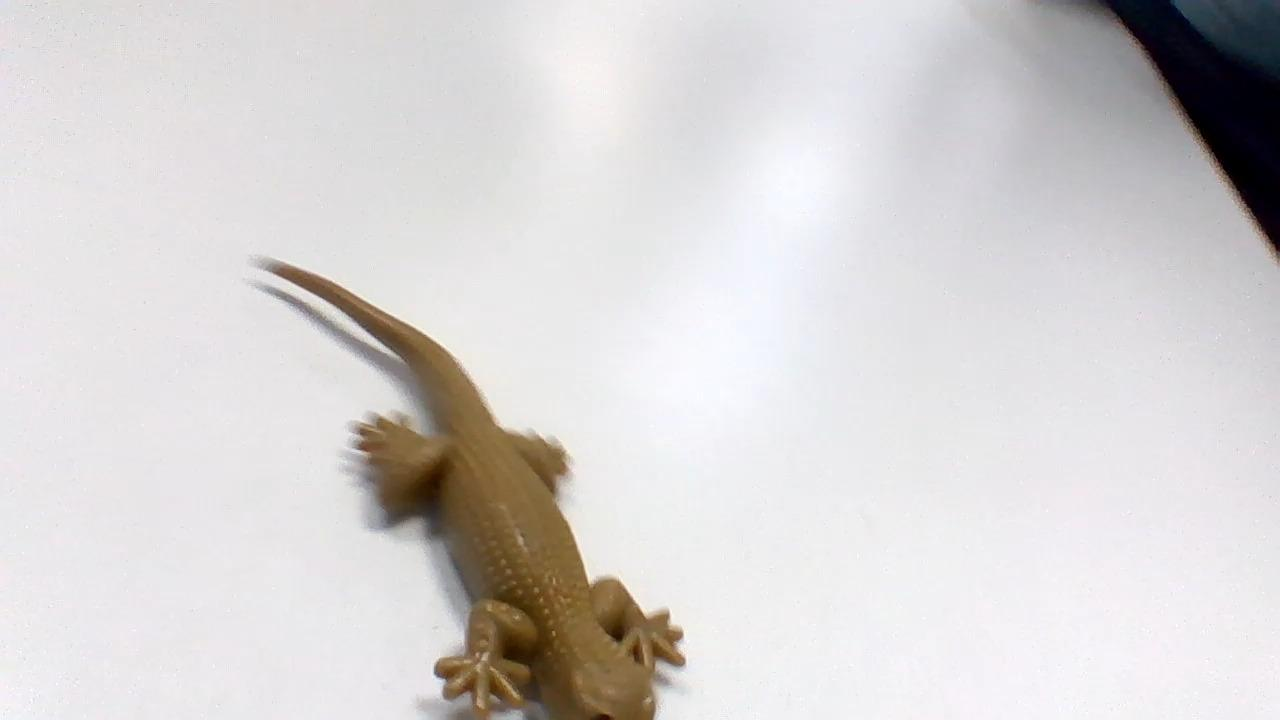lizard: (228, 250, 682, 720)
